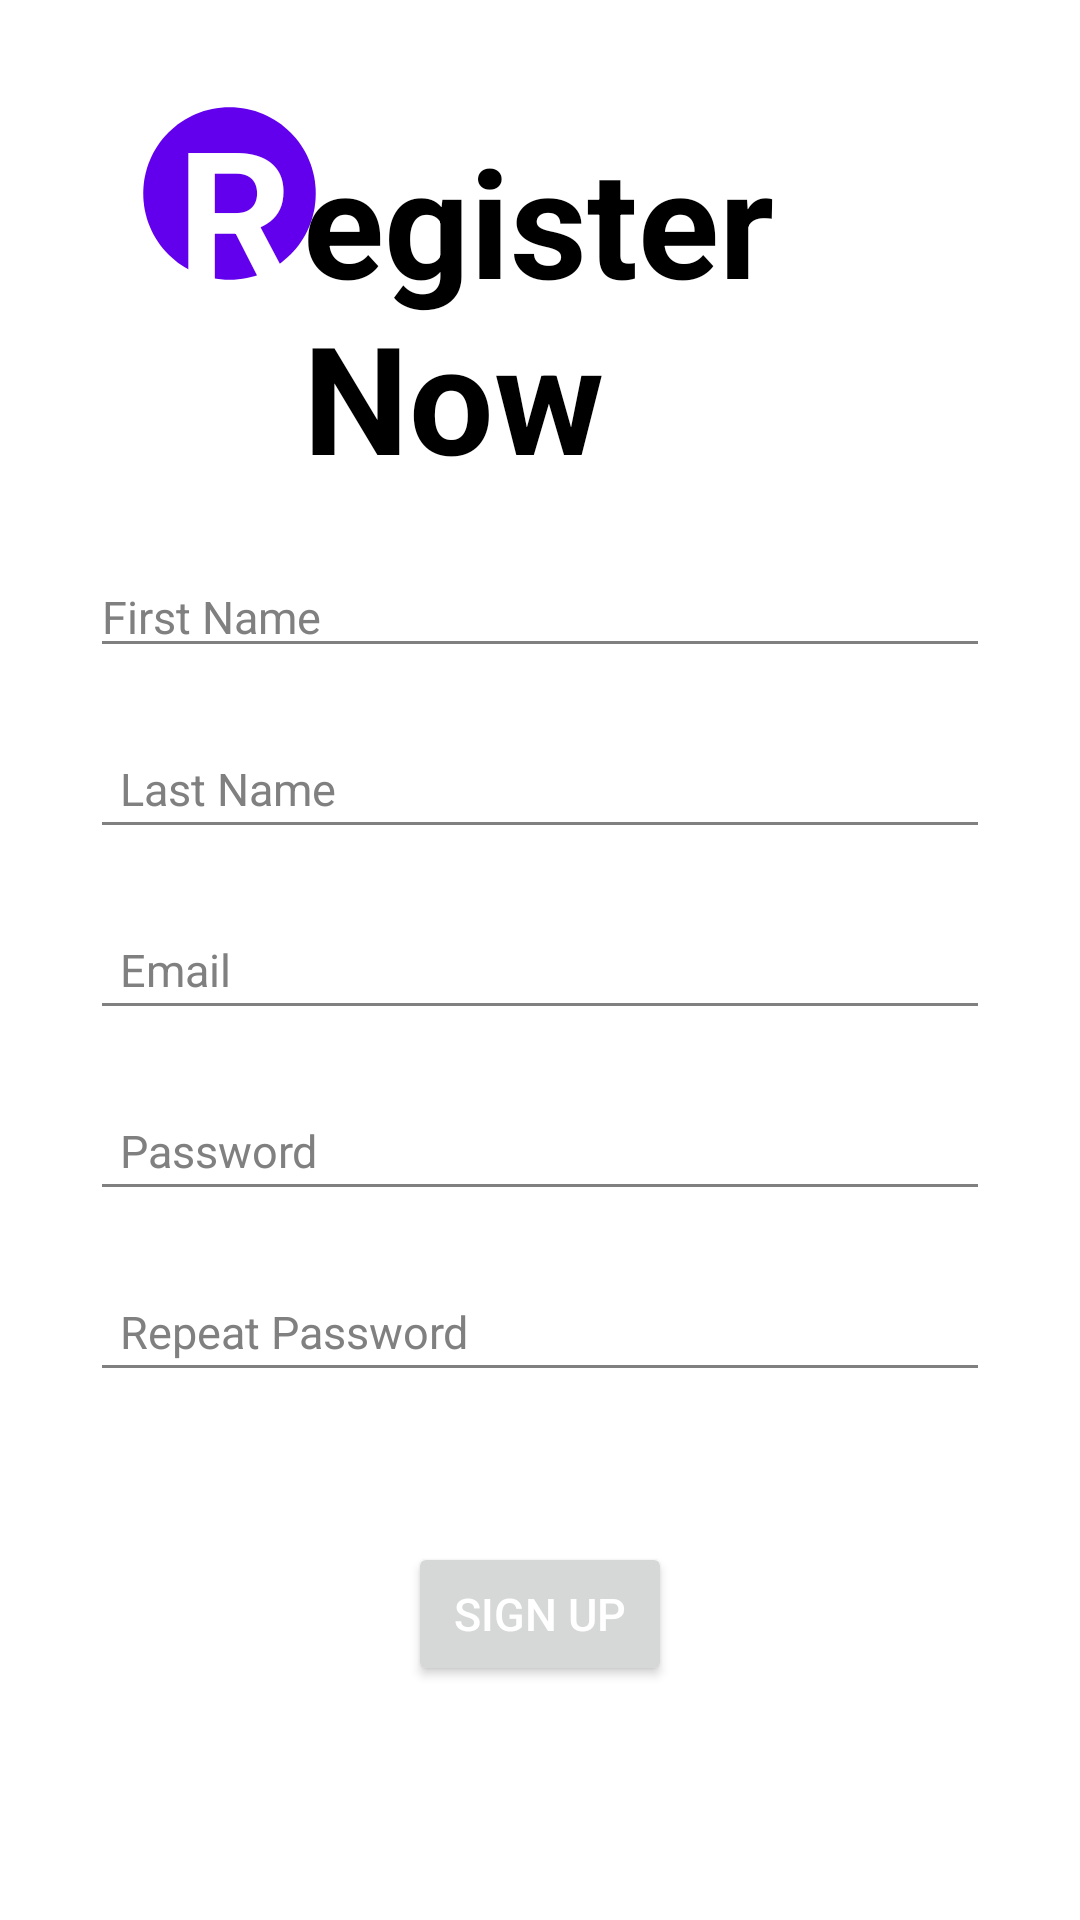

Where to tap for icons on this 1080x1920 app screen, as (x=x, y=y):
cirlce: (x=238, y=193)
